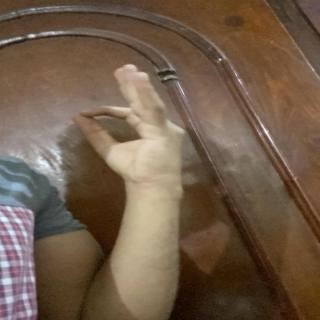Space: (67, 62, 194, 176)
